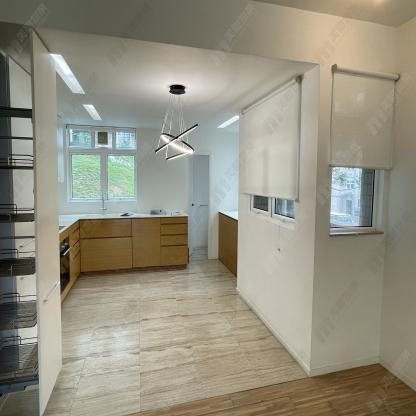Exhaust Fan: (97, 132, 109, 146)
Faucet: (100, 188, 110, 214)
Oven: (60, 235, 70, 296)
